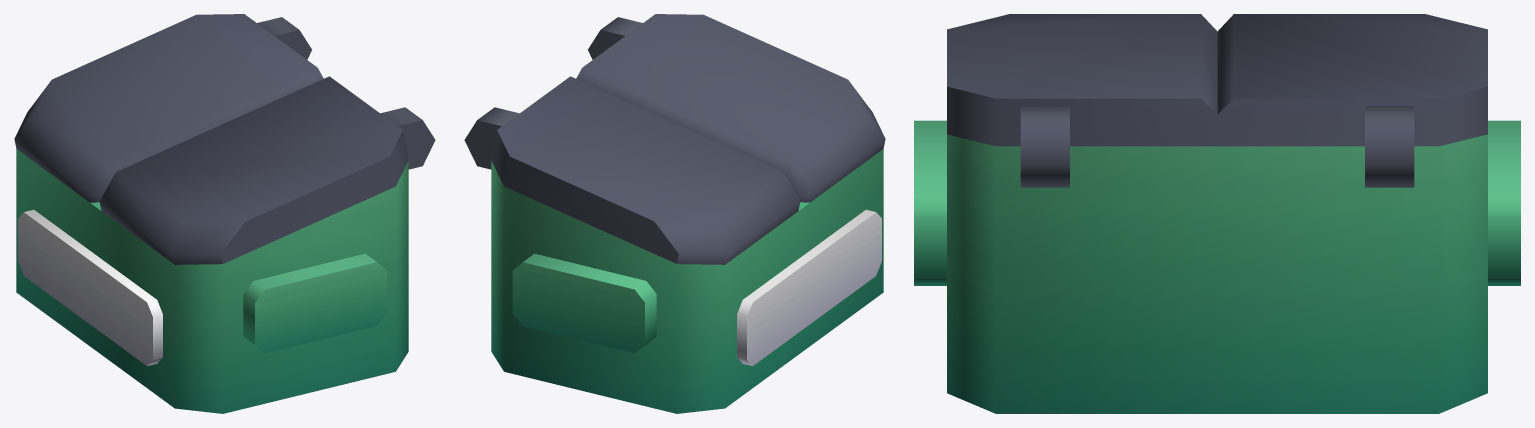
File: roads.dumpster.glb
The picture shows the model from 3 angles, left to right: view 1: azimuth 30°, elevation 25°; view 2: azimuth 150°, elevation 25°; view 3: azimuth 270°, elevation 25°; orthographic projection. The views are drawn at different scales.
Parts seen in each view (by area): view 1: dumpster, lid-right, lid-left; view 2: dumpster, lid-left, lid-right; view 3: dumpster, lid-left, lid-right.
Part boxes in pixels (x1=…): dumpster: x1=16, y1=17, x2=435, y2=413; lid-right: x1=99, y1=76, x2=408, y2=264; lid-left: x1=14, y1=14, x2=323, y2=202; dumpster: x1=464, y1=17, x2=883, y2=413; lid-left: x1=491, y1=76, x2=800, y2=264; lid-right: x1=576, y1=14, x2=885, y2=202; dumpster: x1=914, y1=106, x2=1520, y2=413; lid-left: x1=1217, y1=14, x2=1487, y2=146; lid-right: x1=947, y1=14, x2=1217, y2=146.
Size of the model in its own units: 2.05 by 1.56 by 2.76.
Materials: 1 (1 with a texture image).
